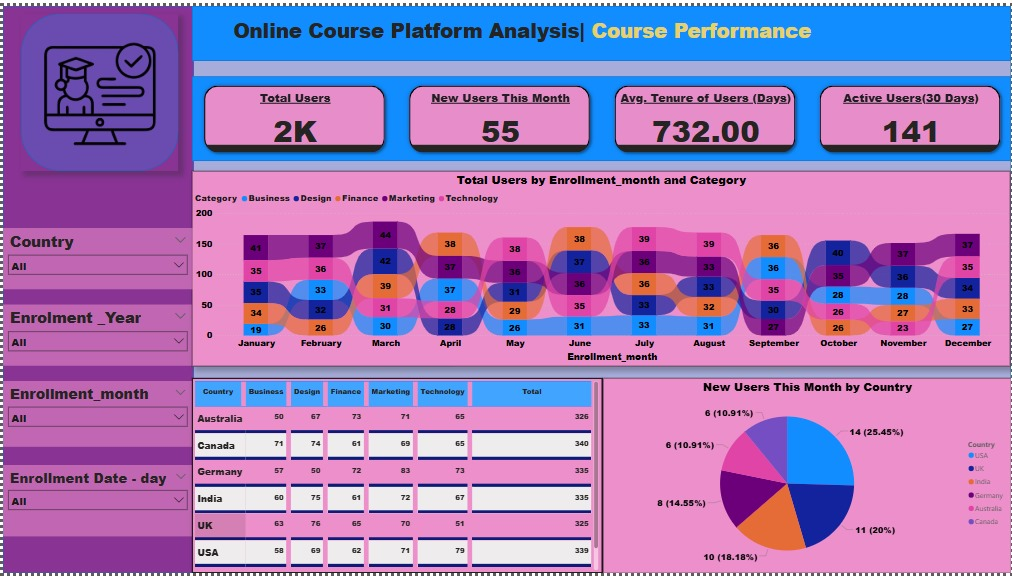

This screenshot's page, from the dashboard's own definition file:
{"tool":"powerbi","page":{"name":"Course Performance","canvas":[1920,1080],"ordinal":1},"visuals":[{"type":"shape","box":[0,0,1919.4,1080.6],"z":0},{"type":"shape","box":[0,0,363.5,1080.8],"z":1000},{"type":"shape","box":[361.1,134.2,1559,161],"z":2000},{"type":"shape","box":[366.7,713.9,494.4,366.7],"z":3000},{"type":"shape","box":[363.5,319.6,495.3,366],"z":4000},{"type":"shape","box":[361.1,0,1559,104.9],"z":5000},{"type":"textbox","box":[408.3,13.9,1405.6,91.7],"z":6000},{"type":"cardVisual","fields":{"Data":["OnlineLearningPlatform.Total Users(UO)","OnlineLearningPlatform.New Users This Month(UO)","OnlineLearningPlatform.Avg. Tenure of Users (Days)","OnlineLearningPlatform.Active Users (UO)(30 Days)"]},"box":[366,134.2,1554.2,161],"z":7000},{"type":"slicer","fields":{"Values":["OnlineLearningPlatform.Quarter"]},"box":[1325,769.4,530.6,105.6],"z":8000},{"type":"slicer","fields":{"Values":["OnlineLearningPlatform.Enrolment _Year"]},"box":[0,569.4,361.1,116.7],"z":9000},{"type":"slicer","fields":{"Values":["OnlineLearningPlatform.Enrollment_month"]},"box":[0,713.9,361.1,125],"z":10000},{"type":"slicer","fields":{"Values":["OnlineLearningPlatform.Enrollment Date - day"]},"box":[0,875,361.1,136.1],"z":11000},{"type":"shape","box":[363.9,213.9,494.4,300],"z":12000},{"type":"ribbonChart","fields":{"Category":["OnlineLearningPlatform.Enrollment_month"],"Y":["OnlineLearningPlatform.Total Users"],"Series":["OnlineLearningPlatform.Category"]},"box":[361.1,313.9,1558.3,372.2],"z":13000},{"type":"pivotTable","fields":{"Rows":["OnlineLearningPlatform.Country"],"Columns":["OnlineLearningPlatform.Category"],"Values":["OnlineLearningPlatform.Total Users"]},"box":[361.1,708.3,780.6,372.2],"z":14000},{"type":"pieChart","fields":{"Category":["OnlineLearningPlatform.Country"],"Y":["OnlineLearningPlatform.New Users This Month"]},"box":[1141.7,708.3,777.8,372.2],"z":15000},{"type":"slicer","fields":{"Values":["OnlineLearningPlatform.Country"]},"box":[0,422.2,361.1,116.7],"z":16000},{"type":"shape","box":[34.2,14.6,300.1,300.1],"z":17000},{"type":"image","box":[2.4,19.5,363.5,295.2],"z":18000}]}

Visuals, with their boxes in screenshot pixels (x1, y1, x2, y2), scaled from the page's 1920x1080 canvas onto the 1012x576 screenshot:
shape: (0,0,1011,575)
shape: (0,0,192,575)
shape: (190,72,1011,157)
shape: (193,381,454,575)
shape: (192,170,453,366)
shape: (190,0,1011,56)
textbox: (215,7,956,56)
cardVisual - OnlineLearningPlatform.Total Users(UO) x OnlineLearningPlatform.New Users This Month(UO): (193,72,1011,157)
slicer - OnlineLearningPlatform.Quarter: (698,410,978,467)
slicer - OnlineLearningPlatform.Enrolment _Year: (0,304,190,366)
slicer - OnlineLearningPlatform.Enrollment_month: (0,381,190,447)
slicer - OnlineLearningPlatform.Enrollment Date - day: (0,467,190,539)
shape: (192,114,452,274)
ribbonChart - OnlineLearningPlatform.Enrollment_month x OnlineLearningPlatform.Total Users: (190,167,1011,366)
pivotTable - OnlineLearningPlatform.Country x OnlineLearningPlatform.Category: (190,378,602,575)
pieChart - OnlineLearningPlatform.Country x OnlineLearningPlatform.New Users This Month: (602,378,1011,575)
slicer - OnlineLearningPlatform.Country: (0,225,190,287)
shape: (18,8,176,168)
image: (1,10,193,168)
